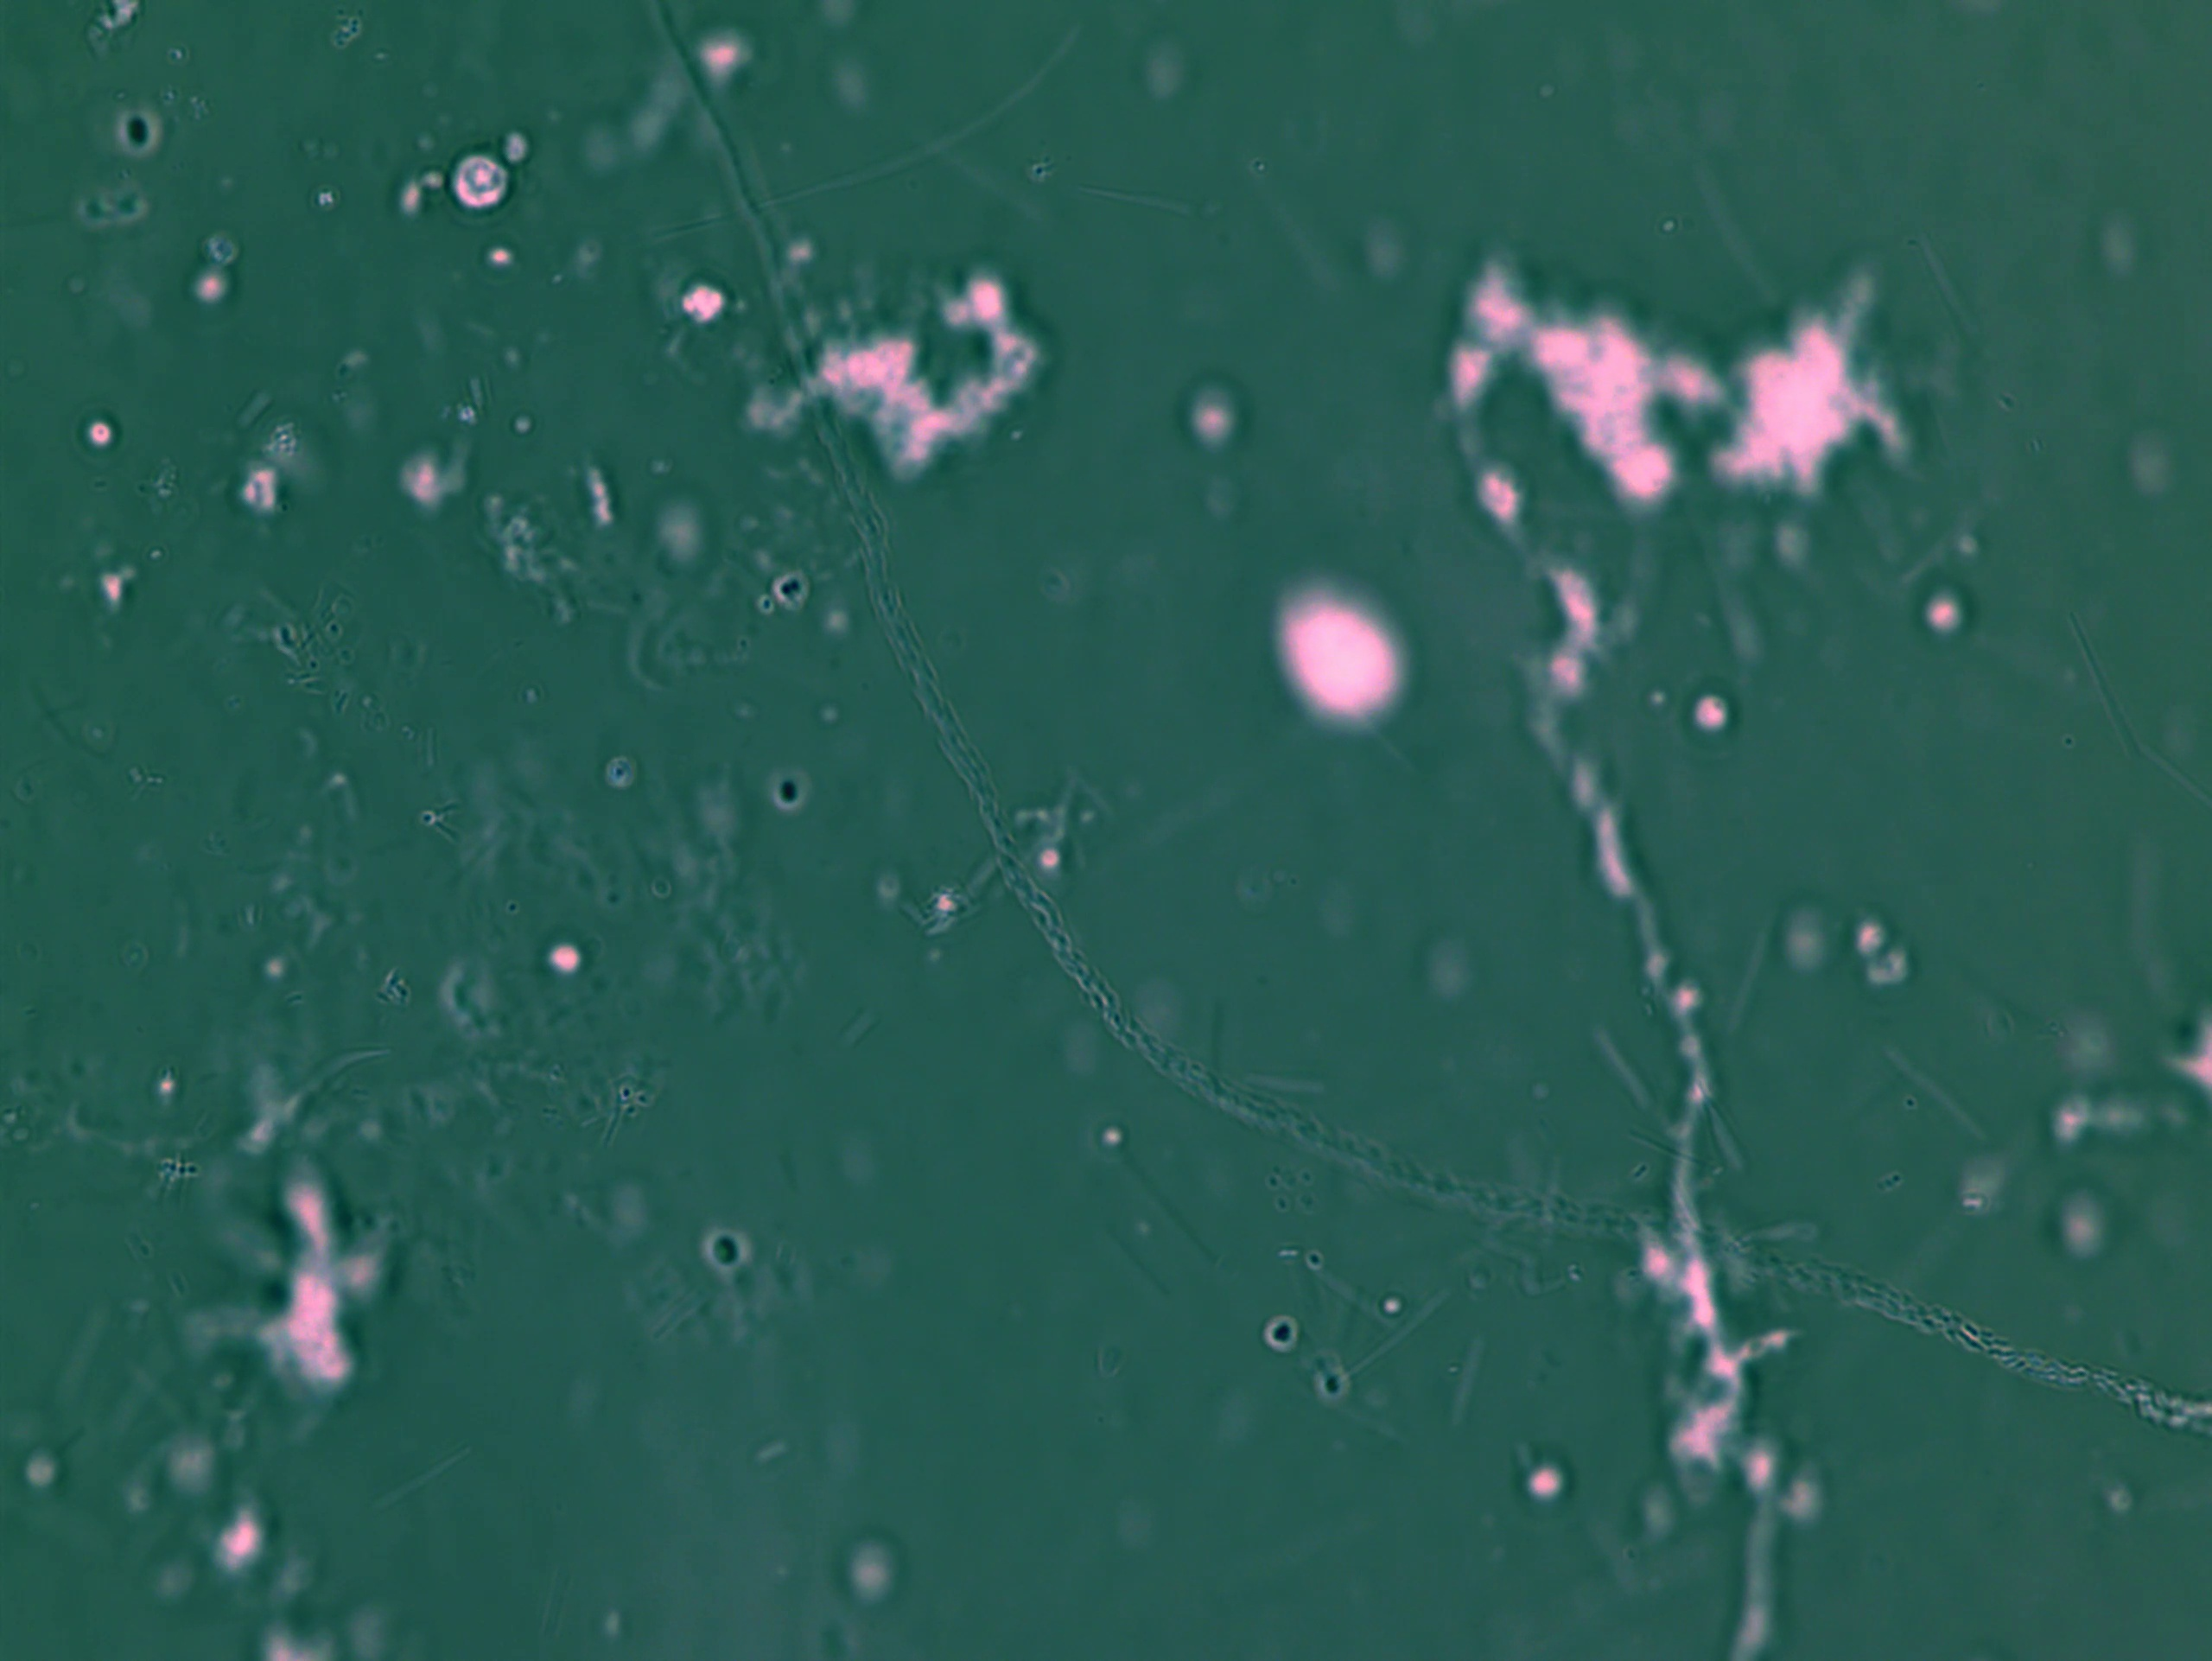depth:80: (1246, 558, 1472, 764)
